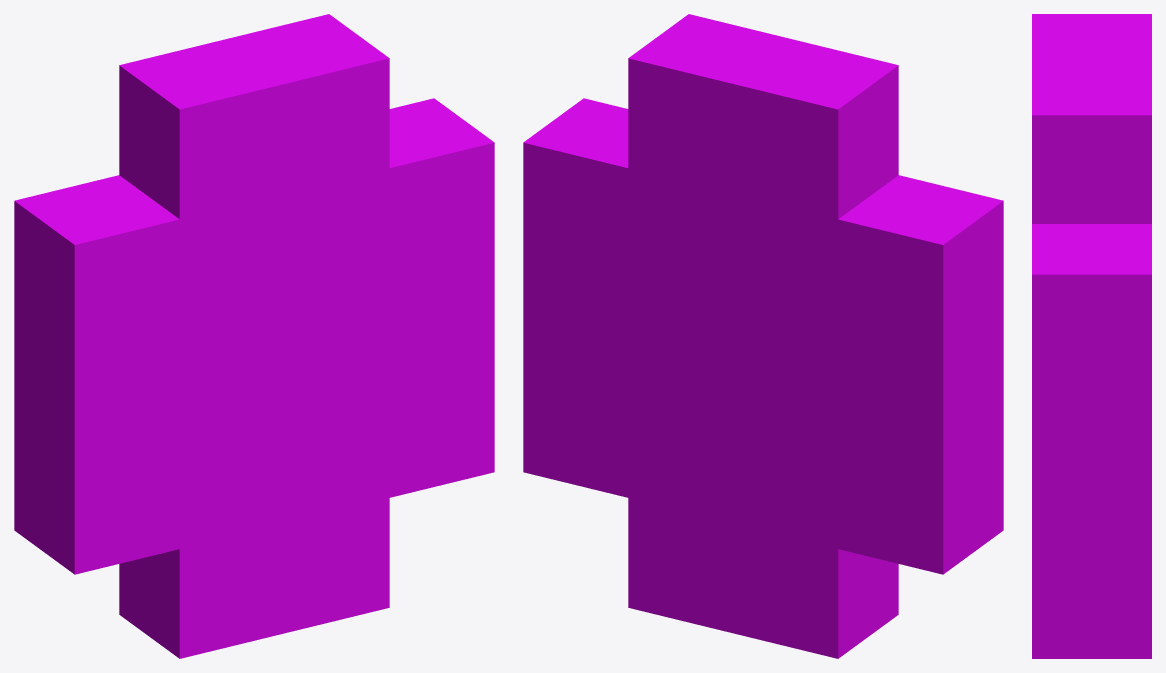
3 renders of one model, left to right at view 1: azimuth 30°, elevation 25°; view 2: azimuth 150°, elevation 25°; view 3: azimuth 270°, elevation 25°, orthographic.
Parts seen in each view (by area): view 1: 52.1; view 2: 52.1; view 3: 52.1.
Boxes of the visible parts, x1,y1,x2,y2 form: 52.1: [14, 14, 494, 658]; 52.1: [523, 14, 1003, 658]; 52.1: [1032, 14, 1151, 658].
Size of the model in its own units: 40 by 50 by 10.
Materials: 1 (1 with a texture image).
